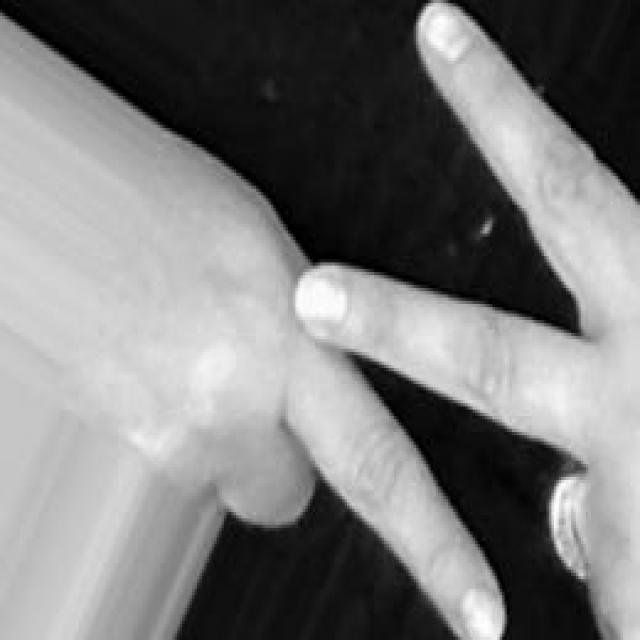Z: (221, 0, 640, 640)
